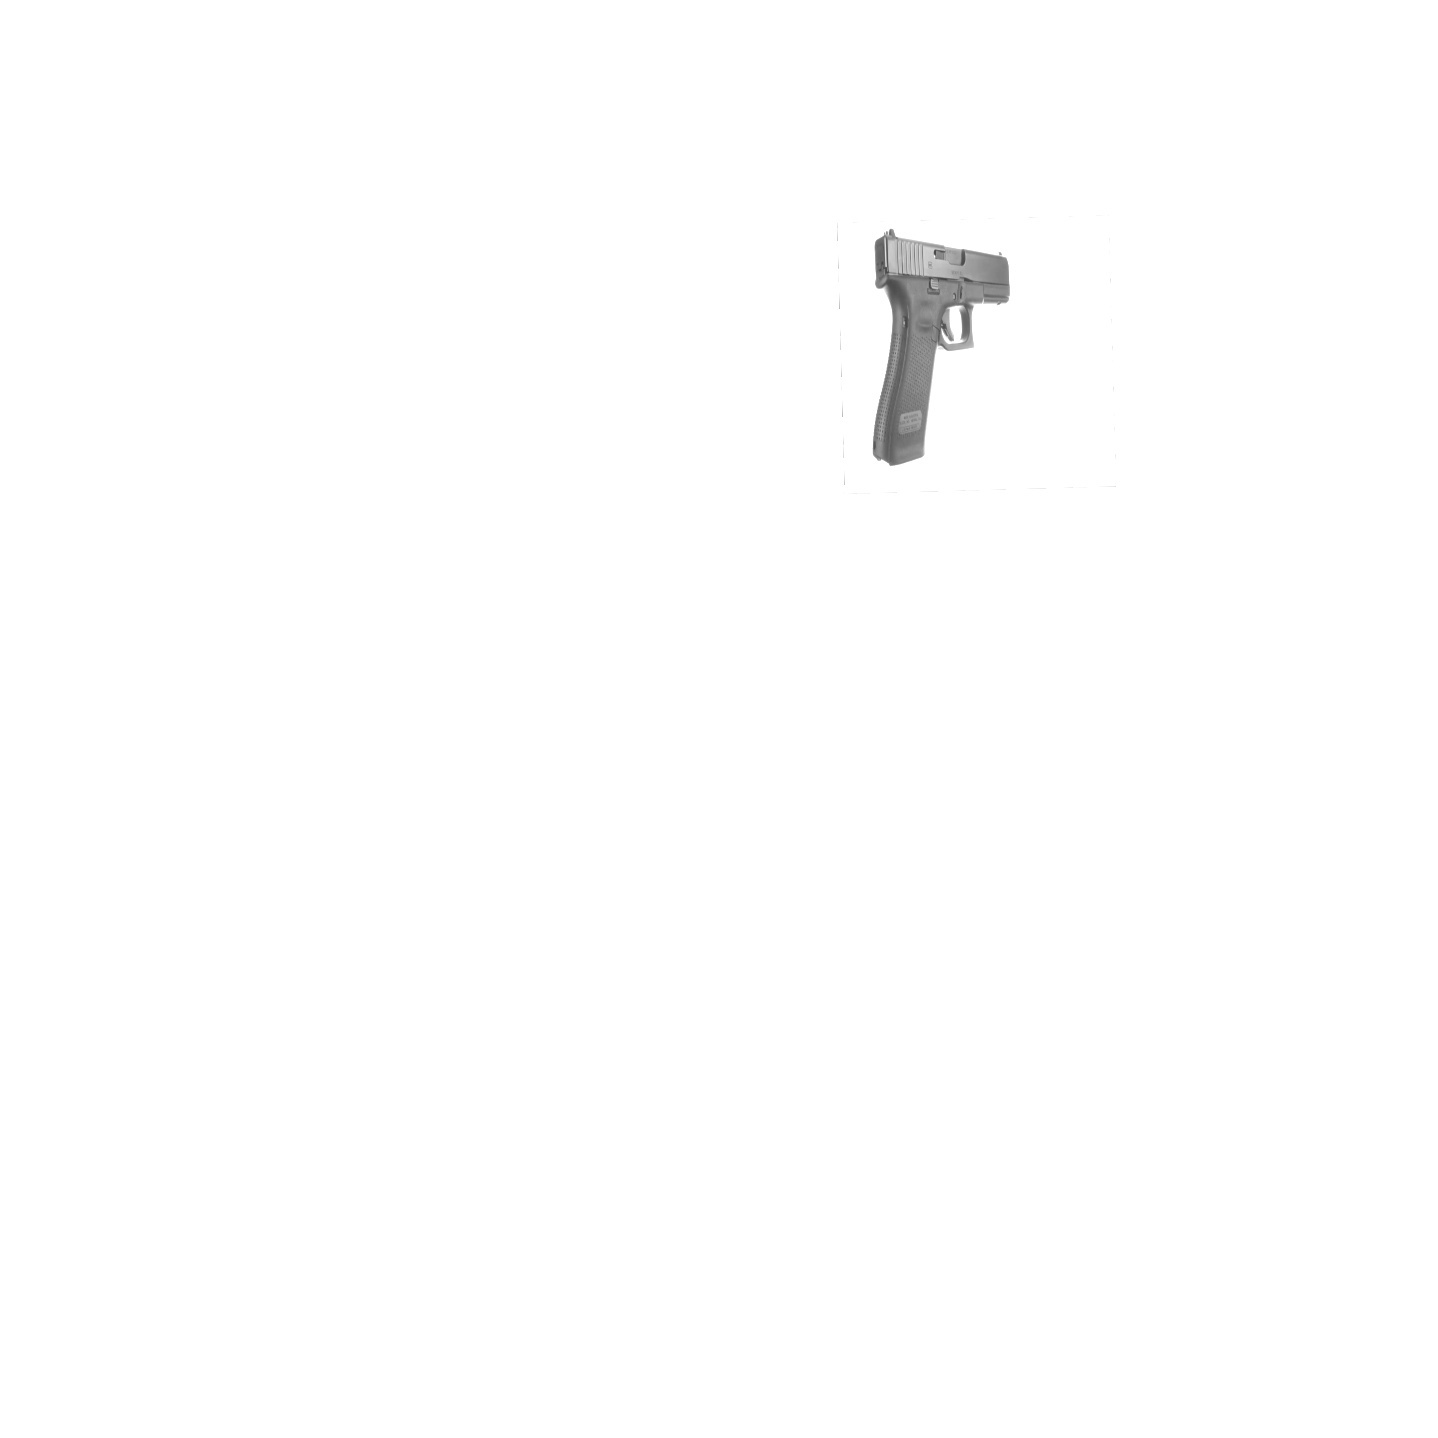gun: (866, 230, 1010, 469)
